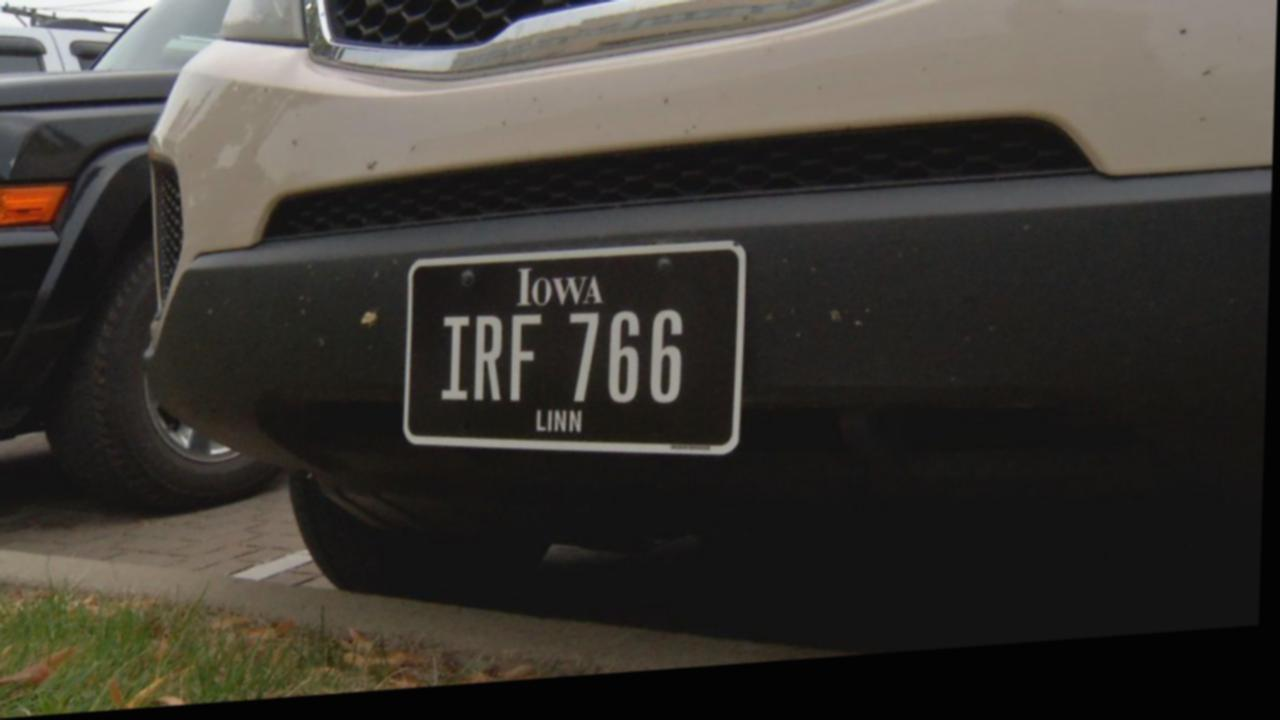License_Plate: (386, 218, 774, 510)
